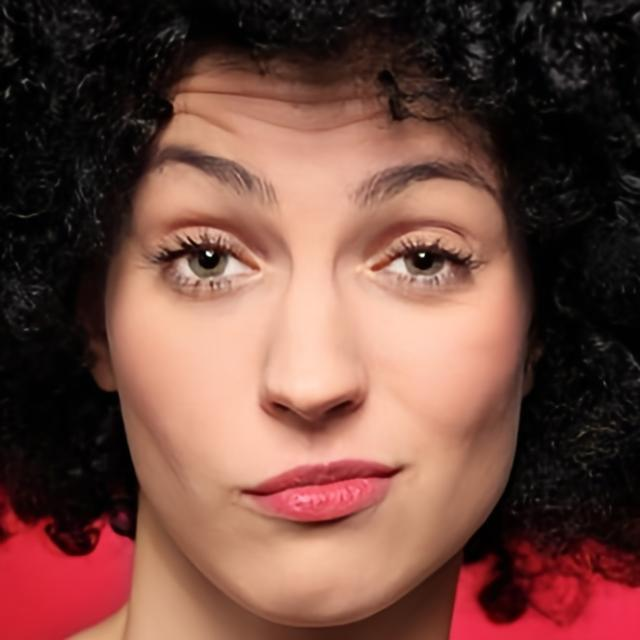surprise: (103, 19, 537, 630)
